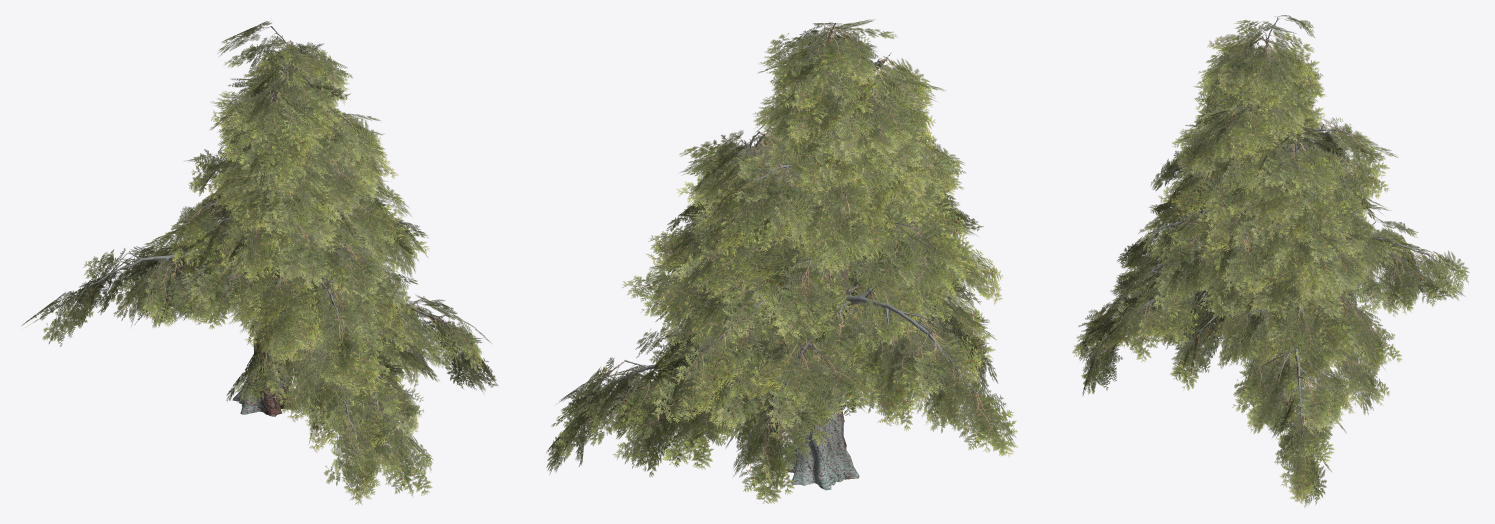
File: conifer.glb
3 views of the same model, side by side, from view 1: azimuth 30°, elevation 25°; view 2: azimuth 150°, elevation 25°; view 3: azimuth 270°, elevation 25° (orthographic). The views are drawn at different scales.
Visible parts, largest first — view 1: Object_3, Object_6, Object_7, Object_9, Object_5, Object_4, Object_8, Object_2; view 2: Object_3, Object_6, Object_4, Object_7, Object_9, Object_8, Object_5, Object_2; view 3: Object_6, Object_7, Object_3, Object_9, Object_4, Object_5, Object_8, Object_2.
Boxes of the visible parts, left/top/right/bottom form: Object_3: left=72, top=41, right=485, bottom=480; Object_6: left=83, top=35, right=483, bottom=505; Object_7: left=113, top=49, right=498, bottom=500; Object_9: left=28, top=36, right=462, bottom=472; Object_5: left=47, top=50, right=481, bottom=495; Object_4: left=22, top=21, right=482, bottom=495; Object_8: left=42, top=26, right=491, bottom=485; Object_2: left=76, top=26, right=453, bottom=435; Object_3: left=546, top=28, right=989, bottom=475; Object_6: left=567, top=28, right=995, bottom=484; Object_4: left=551, top=25, right=1011, bottom=503; Object_7: left=546, top=19, right=1002, bottom=459; Object_9: left=612, top=27, right=1017, bottom=503; Object_8: left=557, top=22, right=1015, bottom=468; Object_5: left=553, top=34, right=1001, bottom=457; Object_2: left=579, top=23, right=977, bottom=490; Object_6: left=1079, top=21, right=1455, bottom=487; Object_7: left=1077, top=31, right=1441, bottom=503; Object_3: left=1083, top=33, right=1469, bottom=507; Object_9: left=1072, top=20, right=1458, bottom=444; Object_4: left=1082, top=17, right=1465, bottom=462; Object_5: left=1082, top=44, right=1417, bottom=471; Object_8: left=1081, top=15, right=1426, bottom=457; Object_2: left=1106, top=17, right=1435, bottom=452.
Bounding box in the file's own units: 9.21 × 8.58 × 8.32.
Materials: 8 (8 with a texture image).
